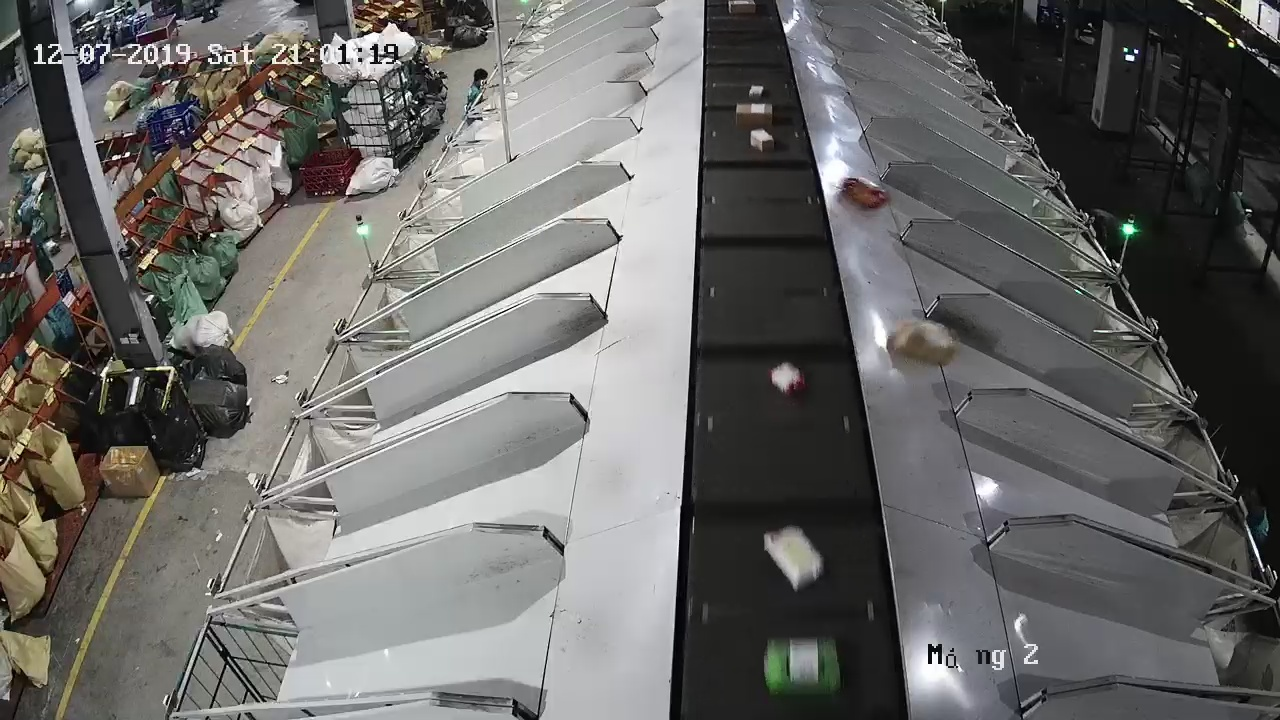parcel: (886, 318, 957, 367), (840, 176, 889, 210)
